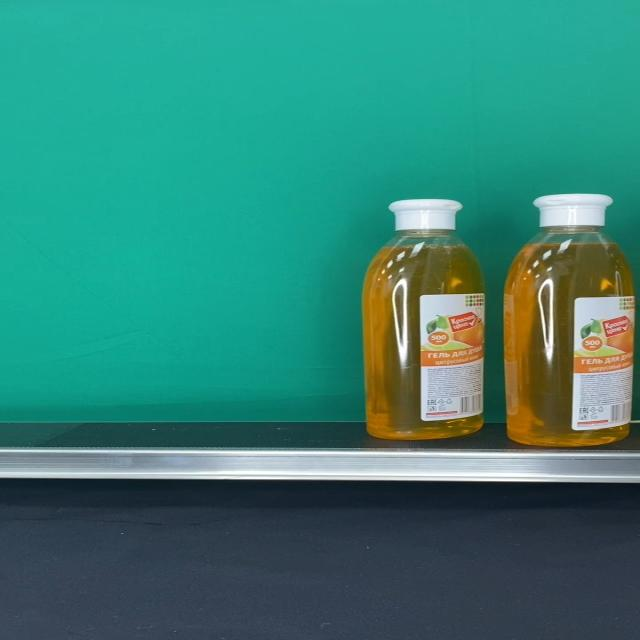Bottle: (504, 192, 636, 446), (364, 198, 486, 440)
Cap: (532, 194, 614, 226), (389, 199, 463, 229)
